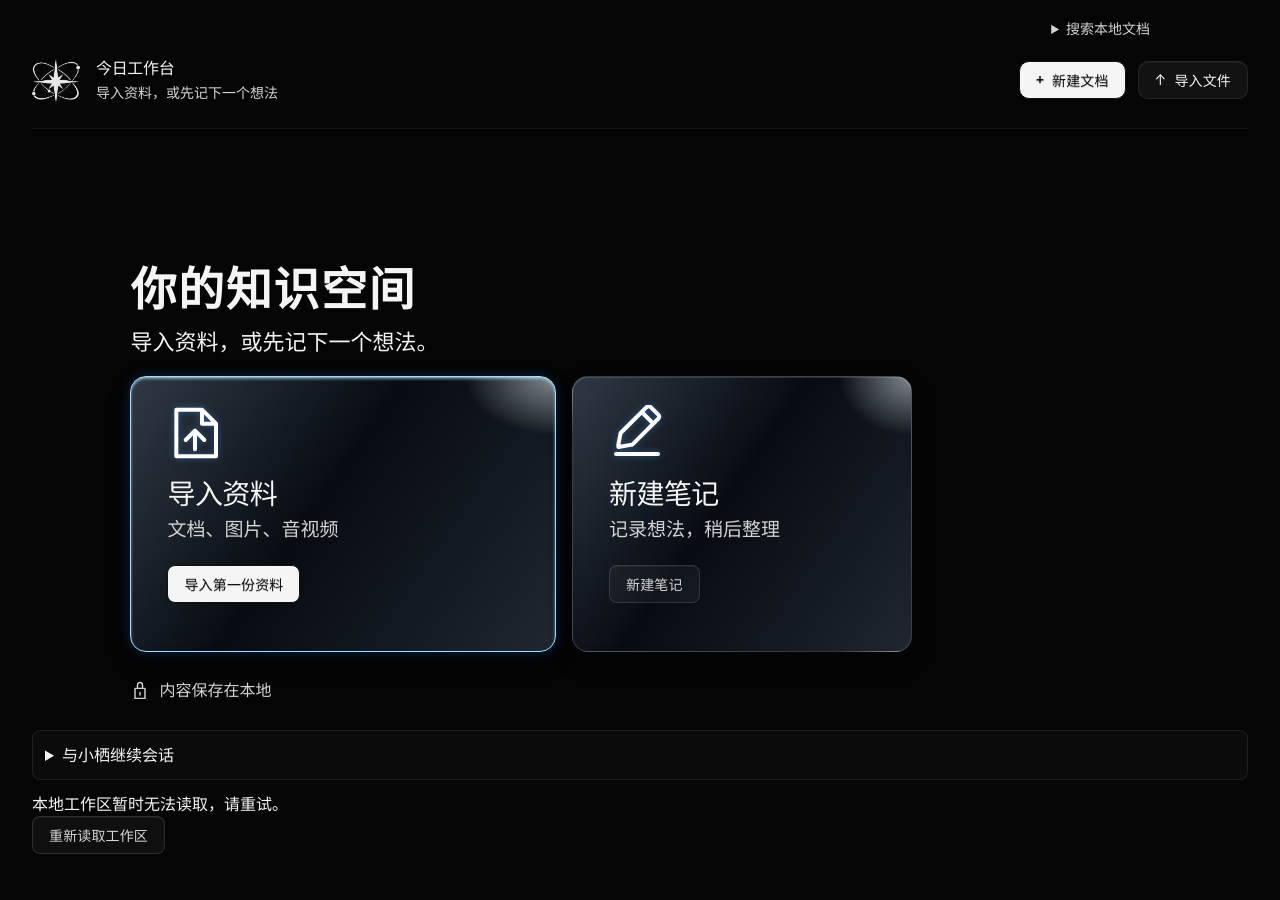
UI-first real object entry › SIMULATED: a refused Core read remains unavailable and retries instead of displaying an empty workspace
Expected: the message "本地工作区暂时无法读取，请重试。" is shown, [32,793,288,815]
Click the button "重新读取工作区" at (98, 835), box [32,816,165,854]
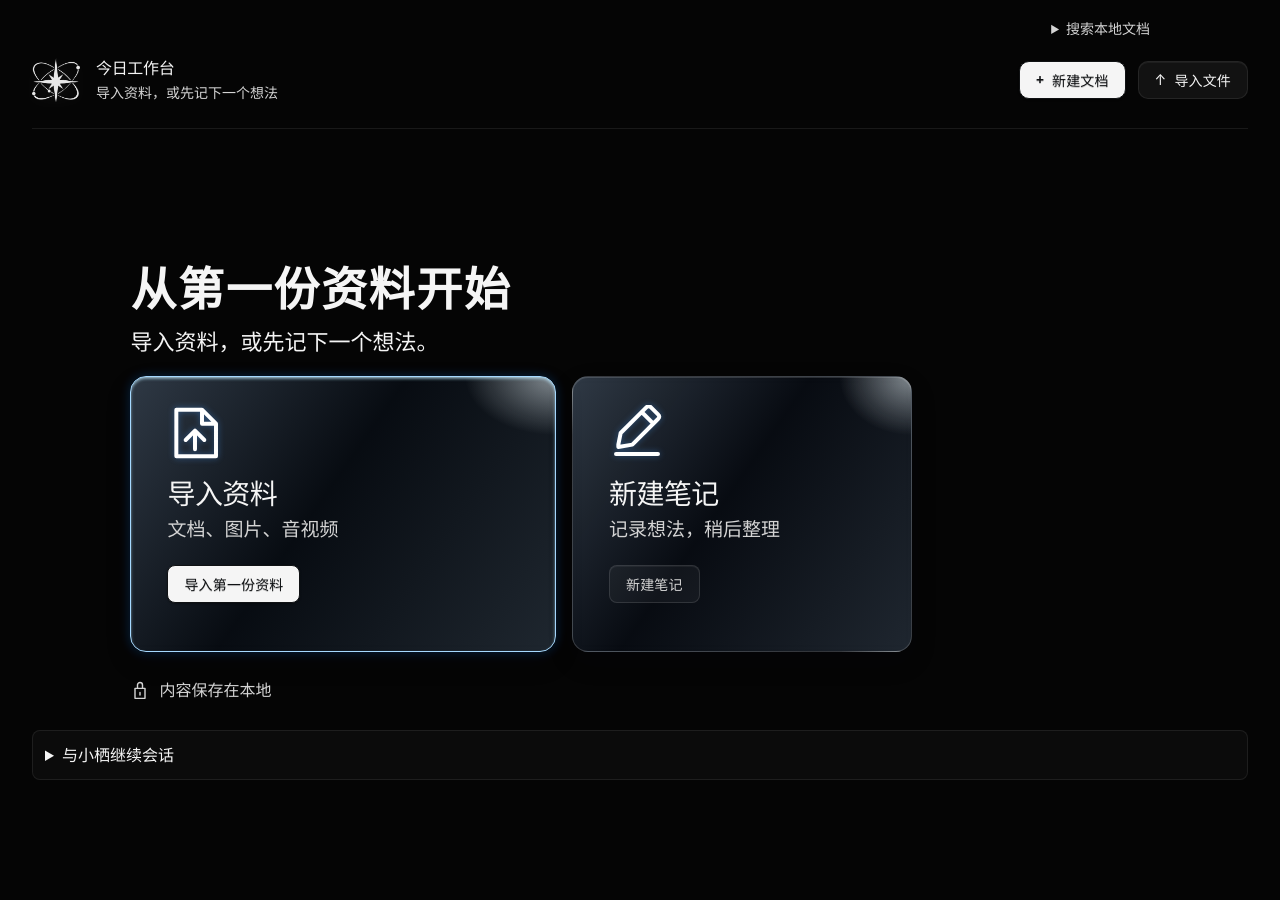
Now the message "本地工作区暂时无法读取，请重试。" is gone
Now the heading "从第一份资料开始" is shown, box [130,257,511,319]
